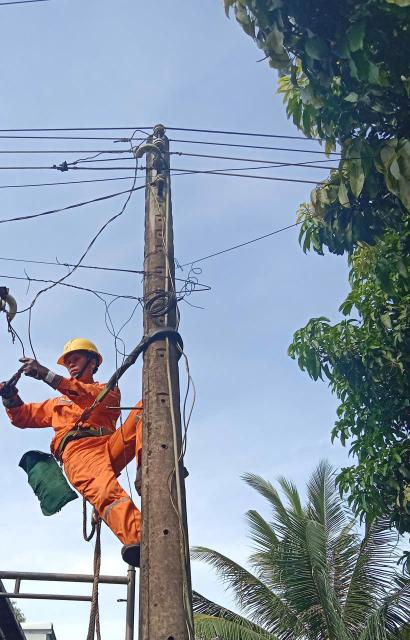gloves: (18, 356, 68, 398), (0, 377, 24, 414)
harness: (47, 421, 124, 449)
helmet: (56, 333, 108, 370)
shoes: (118, 536, 161, 567)
